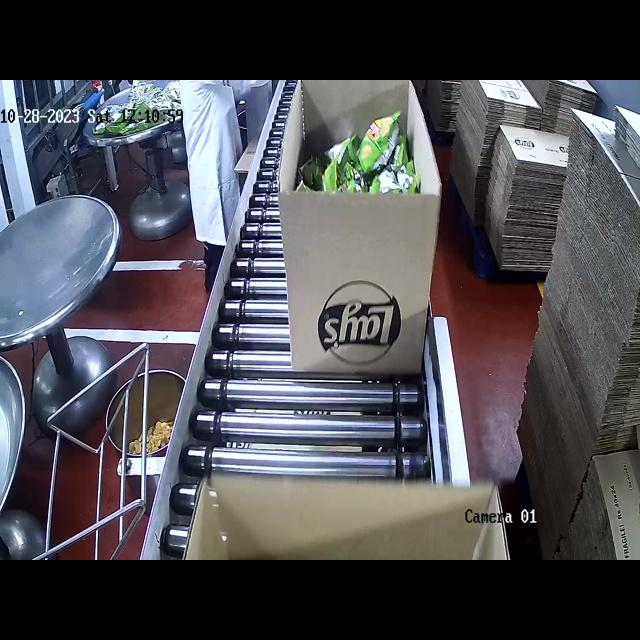yogurt: (299, 112, 425, 204)
